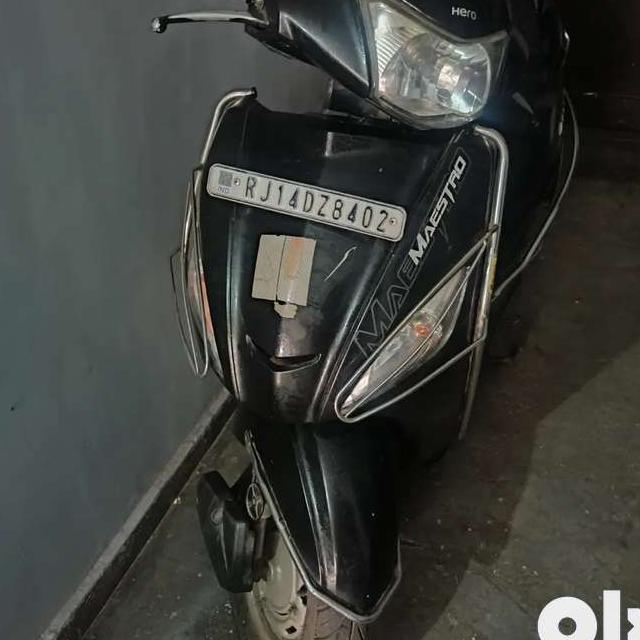Indian_Number_Plate: (205, 159, 406, 241)
